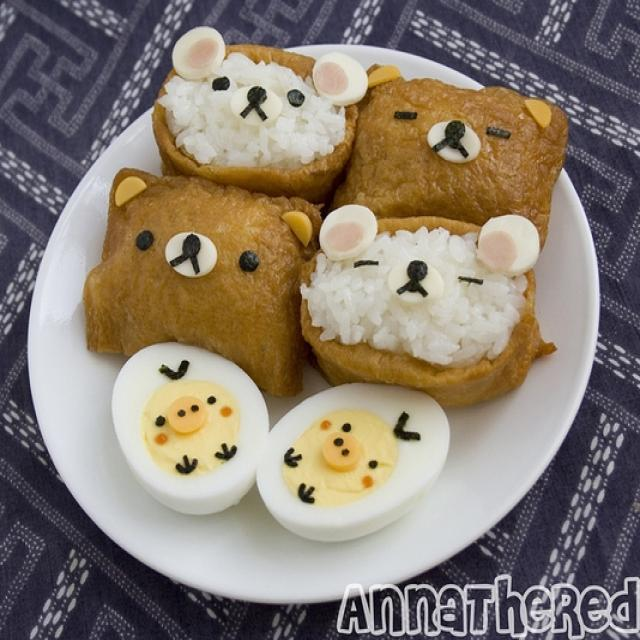寿司卷物: (46, 29, 593, 581)
